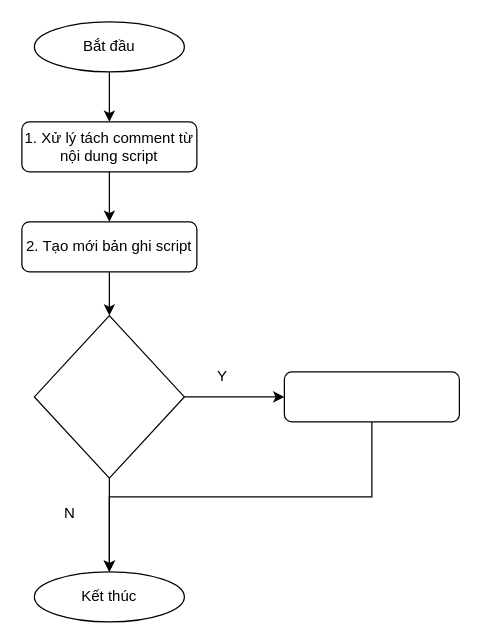
Some shapes in this 481 by 644 pixel diagram are drawn without their labels. The shapes that lost their labels are listed below. From the top down, each one's centre as x and y in pixels, then its label:
At pixel 108 396: "3. Kiểm tra DS id script phụ thuộc user chọn > 0".
At pixel 371 396: "4. Tạo các bản ghi dependency".
